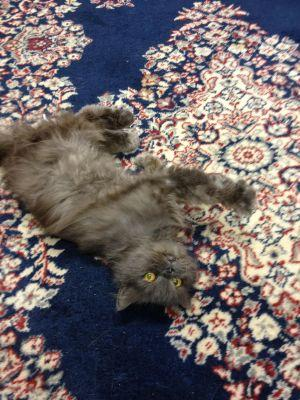persian: (106, 231, 204, 322)
